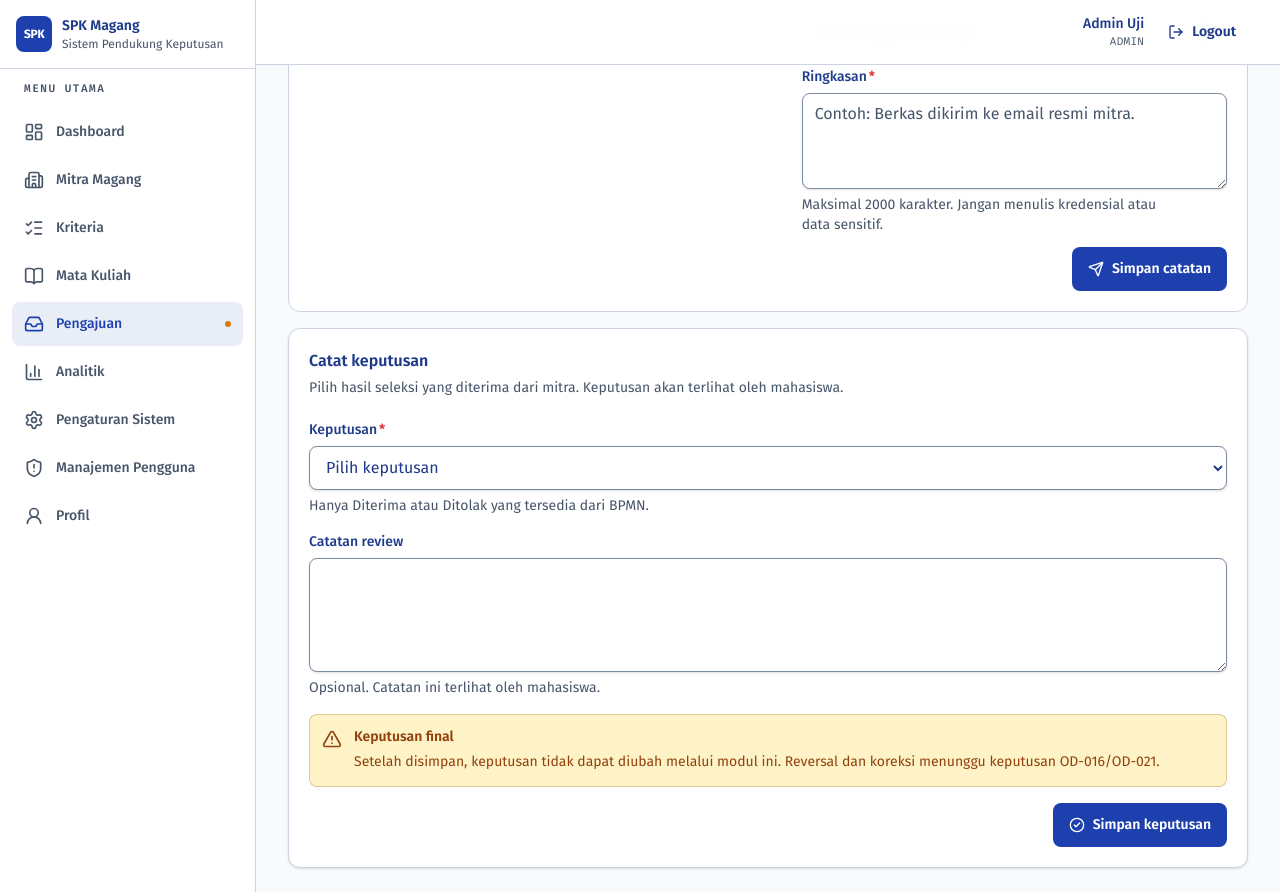
Test: AdminApplicationDetailPage › menampilkan error jaringan saat keputusan gagal disimpan
The width and height of the screenshot is (1280, 892).
(page scrolled)
Select "Diterima" in the dropdown labelled "Keputusan*" at x=768, y=468, box [309,446,1227,490]
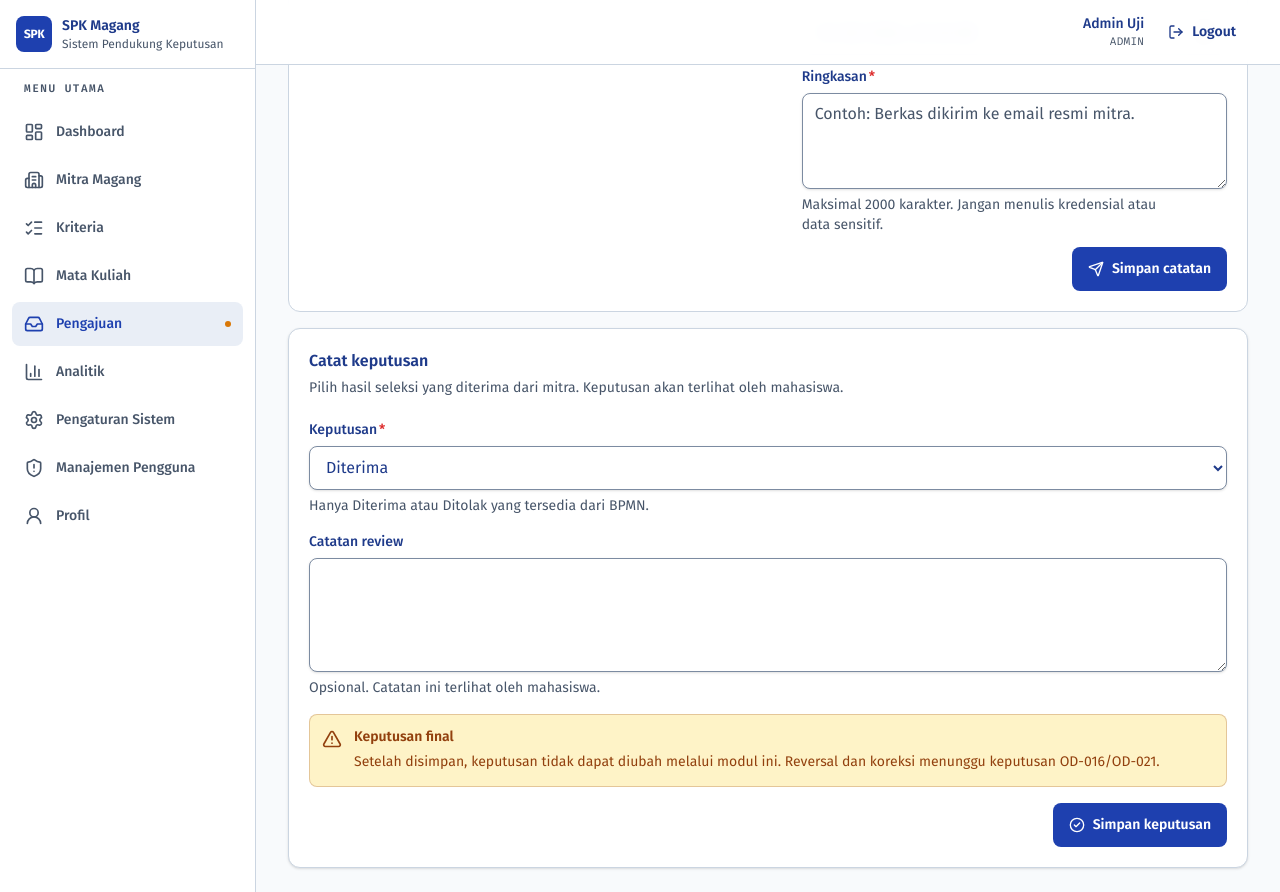
Click the button "Simpan keputusan" at x=1140, y=824, box [1053,802,1227,846]
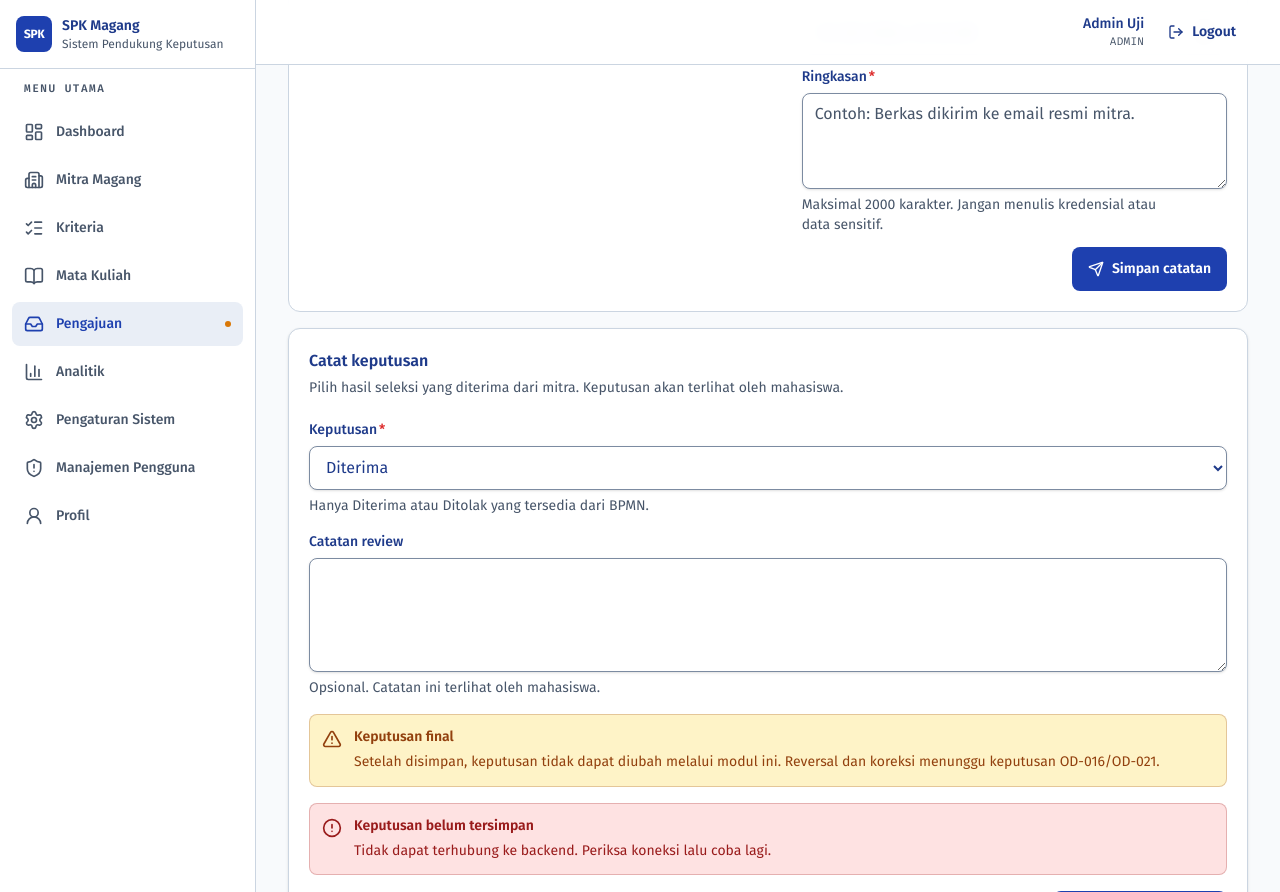
Check: the text "Tidak dapat terhubung ke backend. Periksa koneksi lalu coba lagi." is shown, box [354,840,771,862]
Check: the text "Keputusan belum tersimpan" is shown, box [354,816,534,834]
